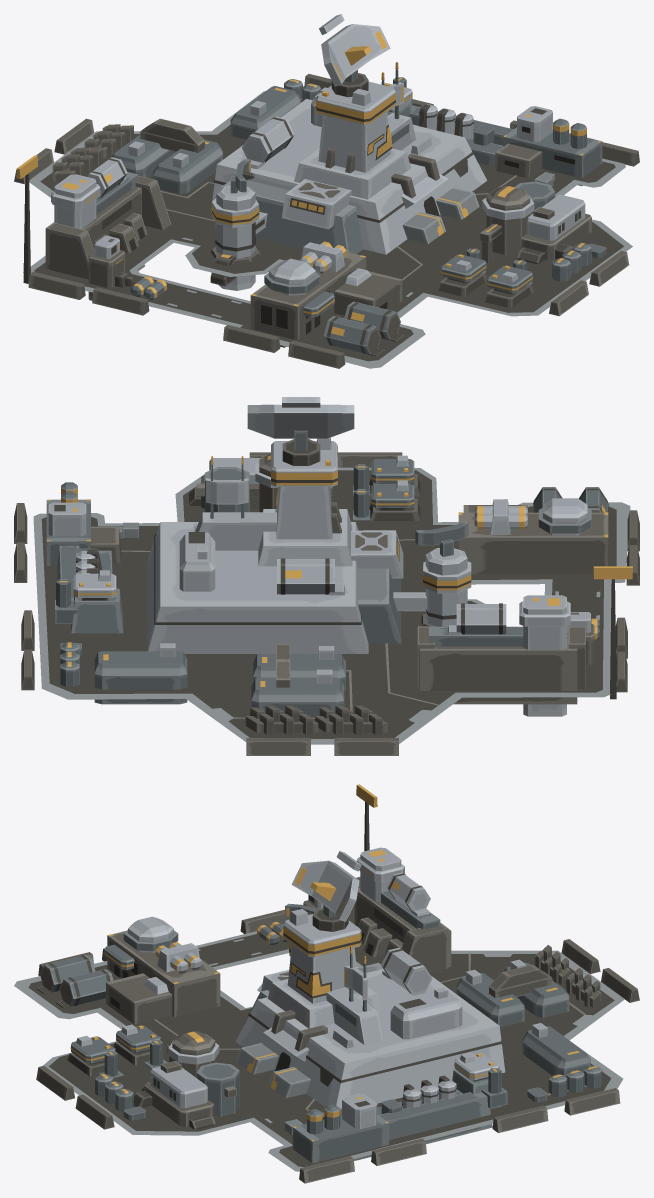
File: playercity2.FBX
3 renders of one model, top to bottom at view 1: azimuth 30°, elevation 25°; view 2: azimuth 150°, elevation 25°; view 3: azimuth 270°, elevation 25°, orthographic. The views are drawn at different scales.
Visible parts, largest first — view 1: playercity2, a, c, e, f, b; view 2: playercity2, a, b, c, e, d; view 3: playercity2, a.
Boxes of the visible parts, x1,y1,x2,y2 form: playercity2: [14, 62, 639, 368]; a: [319, 14, 390, 97]; c: [51, 183, 100, 209]; e: [264, 272, 320, 293]; f: [482, 195, 534, 219]; b: [230, 159, 254, 193]; playercity2: [14, 437, 639, 755]; a: [247, 397, 354, 465]; b: [415, 520, 468, 556]; c: [519, 601, 570, 626]; e: [538, 508, 591, 533]; d: [593, 566, 632, 579]; playercity2: [14, 802, 639, 1183]; a: [291, 851, 361, 931].
Bounding box in the file's own units: 519 × 484 × 184.
1 material, 1 textured.
